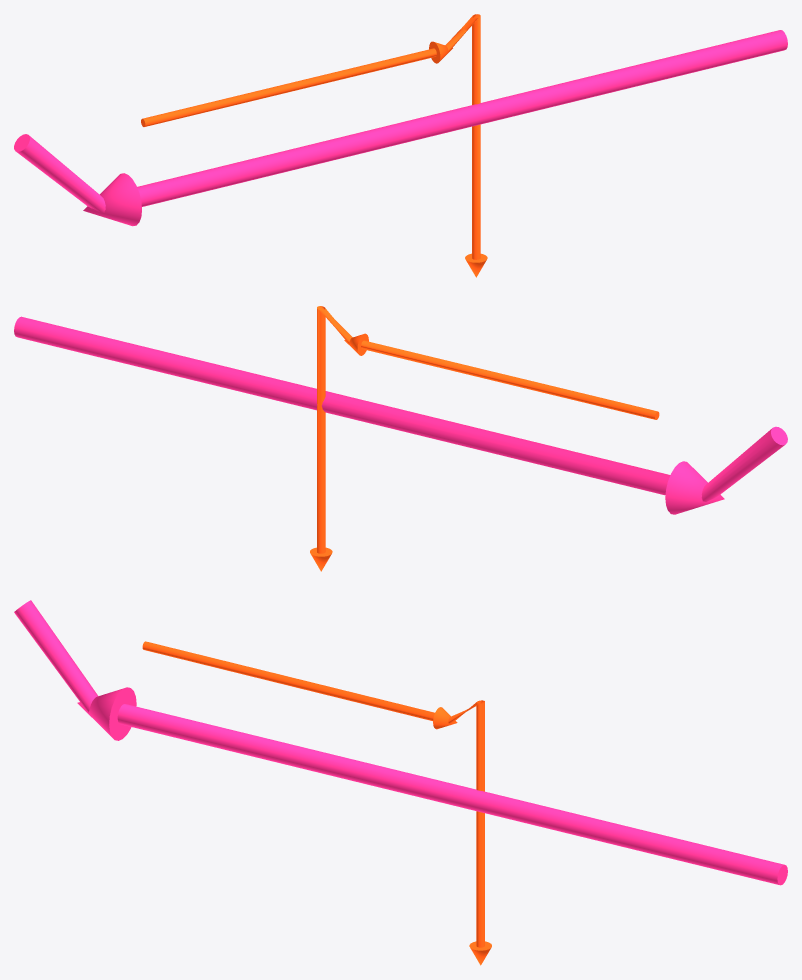
File: shaft_sleeve_flow.glb
3 renders of one model, top to bottom at view 1: azimuth 30°, elevation 25°; view 2: azimuth 150°, elevation 25°; view 3: azimuth 330°, elevation 25°, orthographic.
Visible parts, largest first — view 1: torque, leakage; view 2: torque, leakage; view 3: torque, leakage.
Boxes of the visible parts, x1,y1,x2,y2 form: torque: [14, 30, 787, 226]; leakage: [141, 14, 487, 277]; torque: [14, 316, 787, 514]; leakage: [310, 306, 659, 571]; torque: [14, 600, 787, 885]; leakage: [142, 641, 491, 965].
Size of the model in its own units: 0.5042 by 0.1653 by 0.0312.
